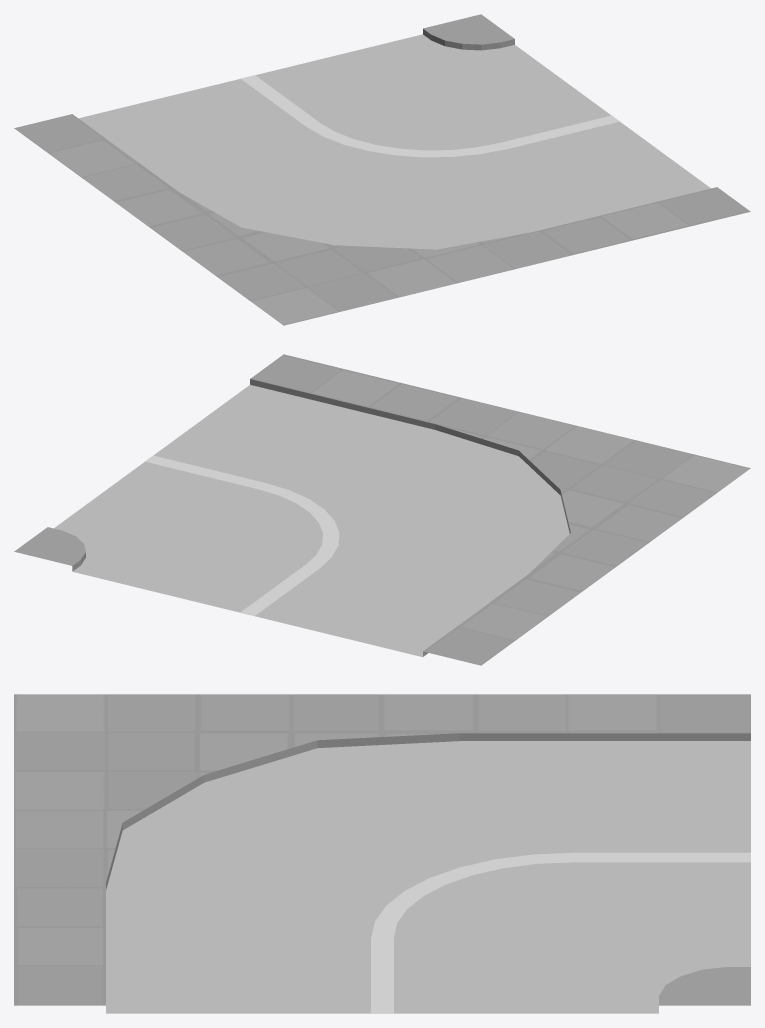
Rendered from tile_road_turn_1x1_a.fbx.
3 renders of one model, top to bottom at view 1: azimuth 30°, elevation 25°; view 2: azimuth 150°, elevation 25°; view 3: azimuth 270°, elevation 25°, orthographic. The views are drawn at different scales.
Visible parts, largest first — view 1: tile_road_turn_1x1_a; view 2: tile_road_turn_1x1_a; view 3: tile_road_turn_1x1_a.
Boxes of the visible parts, <box> form: tile_road_turn_1x1_a: <box>14,14,750,325</box>; tile_road_turn_1x1_a: <box>14,354,750,665</box>; tile_road_turn_1x1_a: <box>14,694,750,1013</box>.
Size of the model in its own units: 1600 by 19.01 by 1600.
